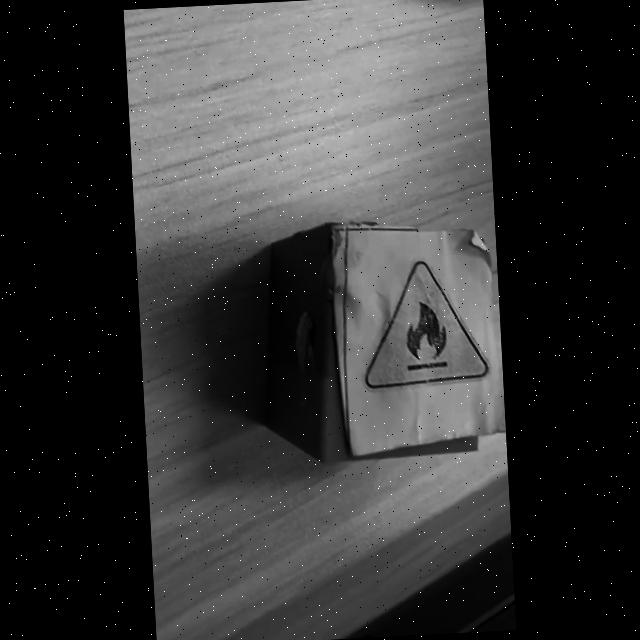Fire: (365, 262, 489, 390)
